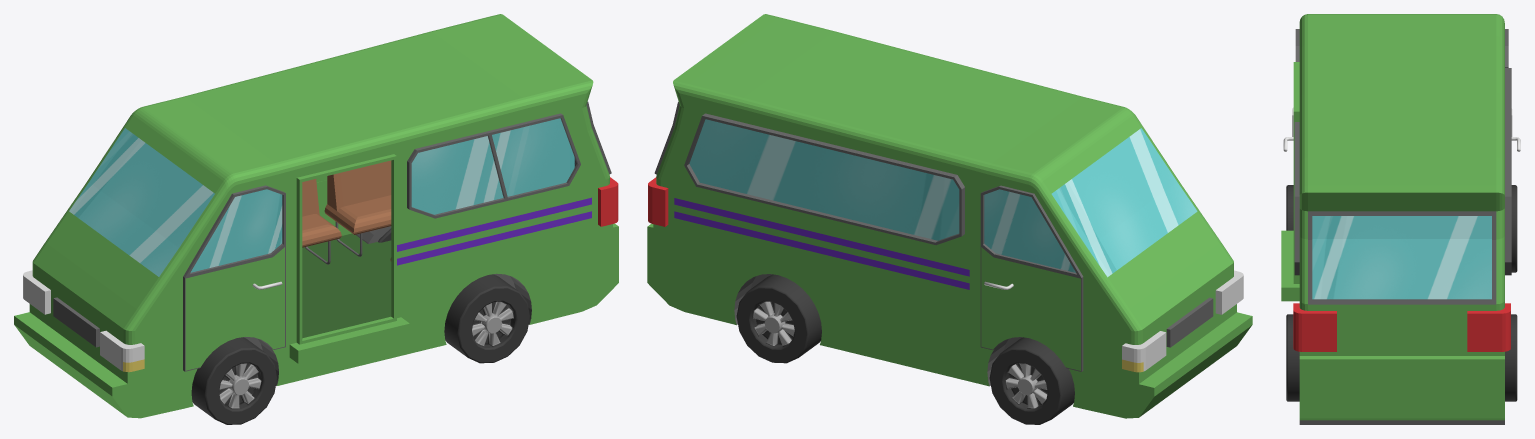
The model's file is Angkot.fbx.
3 renders of one model, left to right at view 1: azimuth 30°, elevation 25°; view 2: azimuth 150°, elevation 25°; view 3: azimuth 270°, elevation 25°, orthographic. The views are drawn at different scales.
Parts seen in each view (by area): view 1: Cube, Cylinder, Plane.003, Cube.002, Plane; view 2: Cube, Cylinder, Cube.001; view 3: Cube, Cylinder, Cube.002.
Part boxes in pixels (left/top/right/bottom): Cube: left=14, top=14, right=618, bottom=418; Cylinder: left=191, top=228, right=529, bottom=424; Plane.003: left=324, top=160, right=391, bottom=234; Cube.002: left=407, top=113, right=580, bottom=218; Plane: left=302, top=179, right=341, bottom=247; Cube: left=647, top=14, right=1252, bottom=418; Cylinder: left=736, top=274, right=1074, bottom=424; Cube.001: left=674, top=198, right=969, bottom=289; Cube: left=1281, top=14, right=1512, bottom=424; Cylinder: left=1286, top=185, right=1517, bottom=401; Cube.002: left=1294, top=122, right=1299, bottom=275.
Size of the model in its own units: 436 by 205 by 171.
12 materials, 1 textured.
